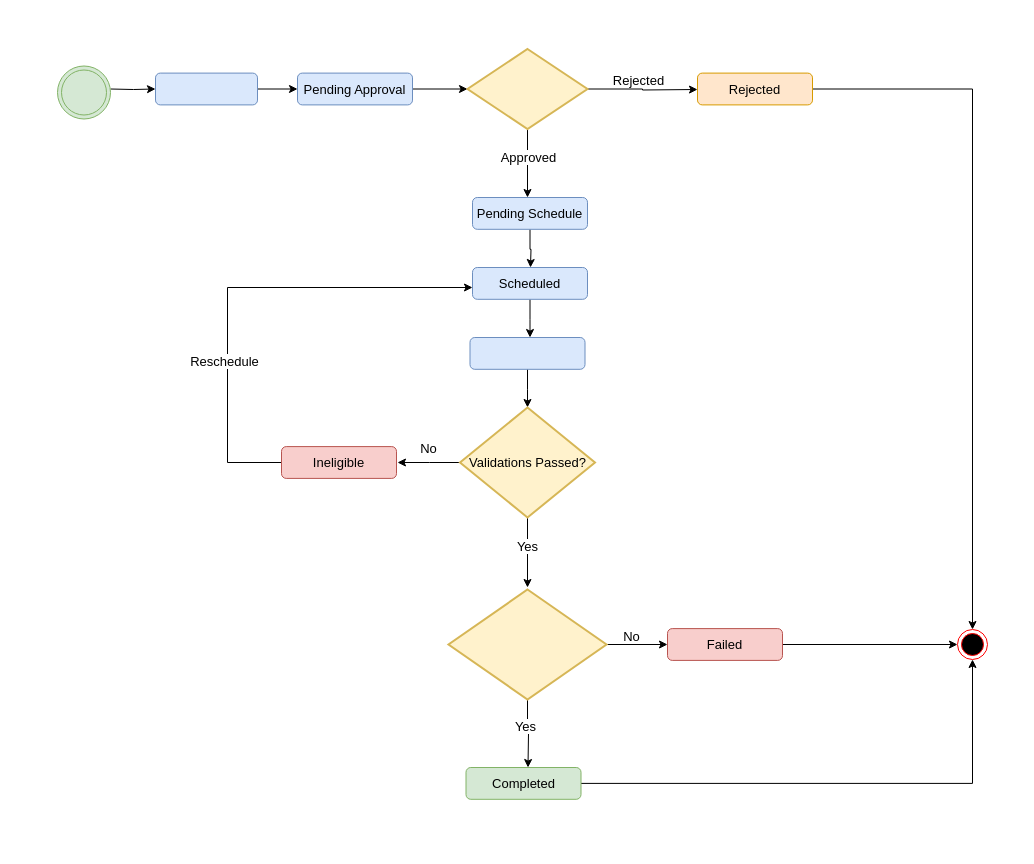
This 1034x864 diagram has some shape labels left out. Each missing label, with the centre of its shape:
"Admin Decision?" goes at (x=527, y=89).
"Execution Successful?" goes at (x=527, y=644).
"In Progress" goes at (x=527, y=352).
"Submit Request" goes at (x=206, y=88).
